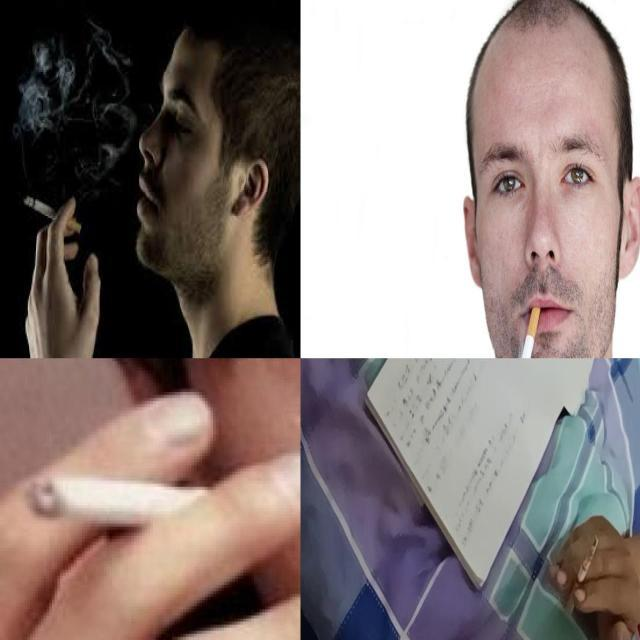smoking: (25, 476, 244, 532), (566, 533, 600, 615), (24, 196, 82, 234), (510, 304, 542, 358)
